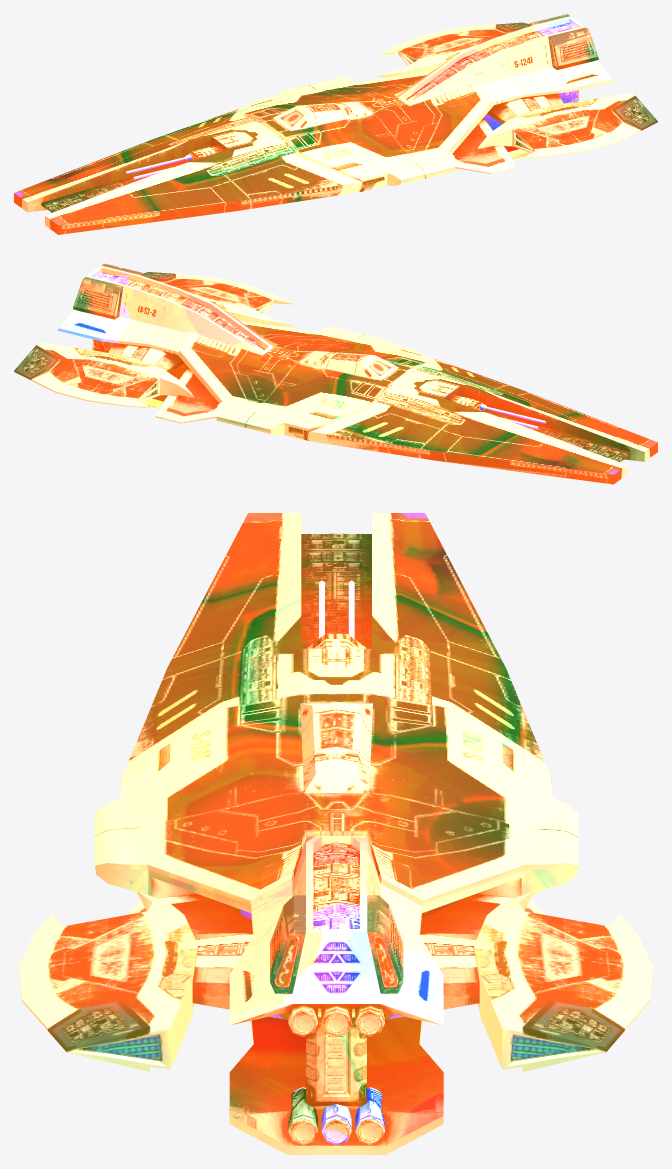
The model's file is freighter.gltf.
The picture shows the model from 3 angles, top to bottom: view 1: azimuth 30°, elevation 25°; view 2: azimuth 150°, elevation 25°; view 3: azimuth 270°, elevation 25°; orthographic projection. The views are drawn at different scales.
Visible parts, largest first — view 1: Plane.005; view 2: Plane.005; view 3: Plane.005.
Part boxes in pixels (x1,y1,x2,y2): Plane.005: (14, 14, 657, 234); Plane.005: (14, 263, 657, 484); Plane.005: (18, 513, 653, 1154).
Size of the model in its own units: 11.87 by 2.23 by 5.89.
